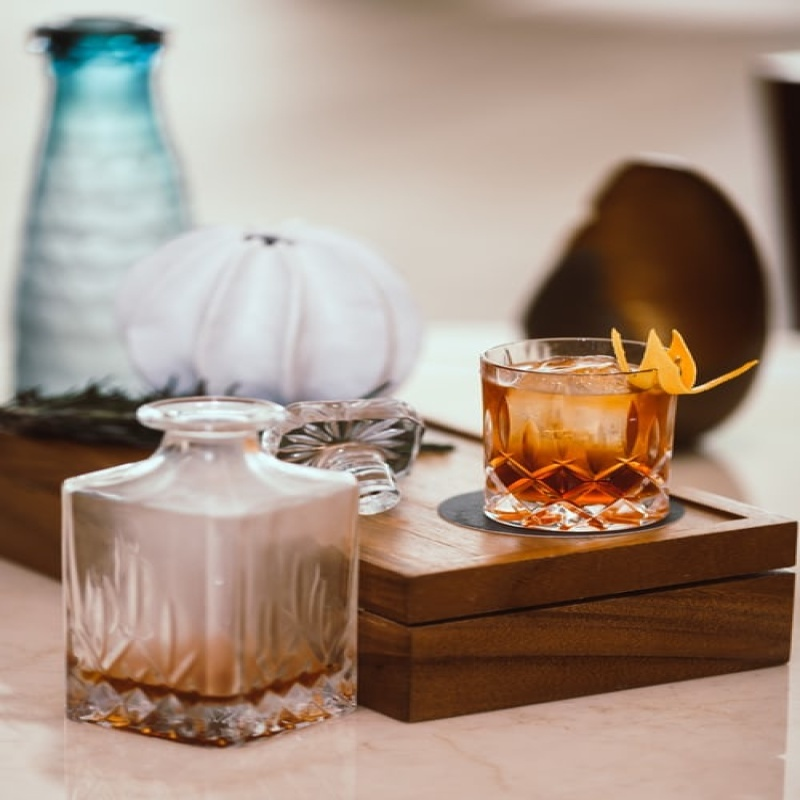whiskey: (481, 332, 677, 530)
